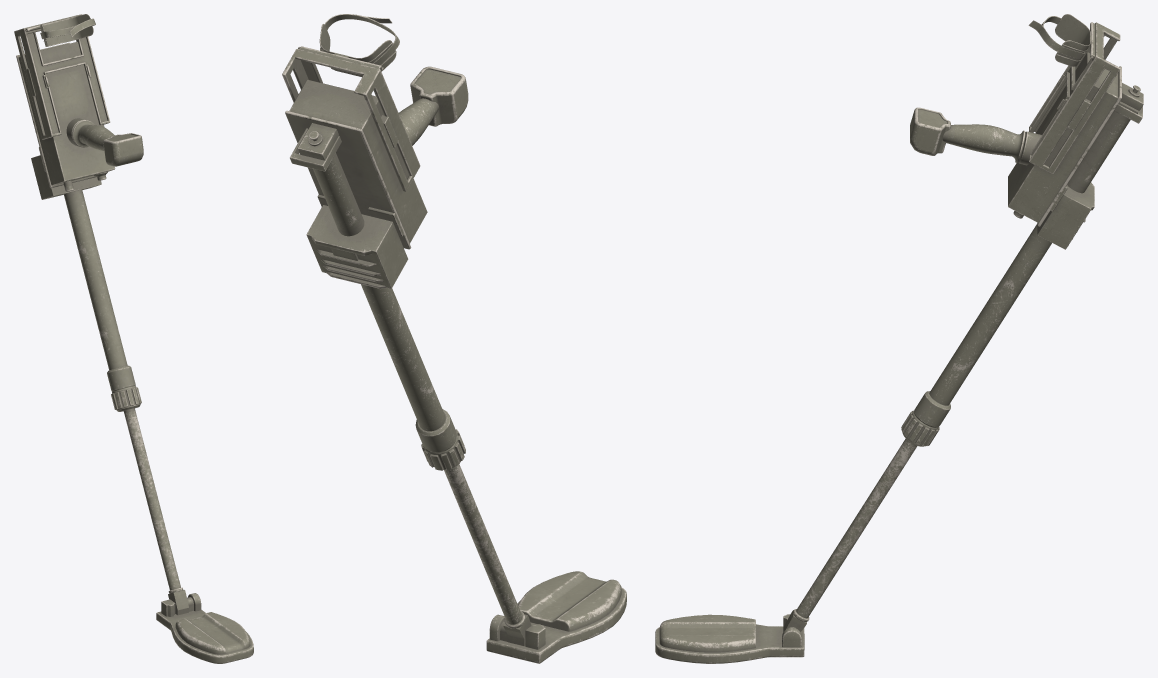
The model's file is ceia-model-bright.glb.
3 views of the same model, side by side, from view 1: azimuth 30°, elevation 25°; view 2: azimuth 150°, elevation 25°; view 3: azimuth 270°, elevation 25° (orthographic). The views are drawn at different scales.
Visible parts, largest first — view 1: Prop_MineHound; view 2: Prop_MineHound; view 3: Prop_MineHound.
Boxes of the visible parts, bbox=[...] form: Prop_MineHound: bbox=[14, 14, 253, 663]; Prop_MineHound: bbox=[282, 14, 626, 663]; Prop_MineHound: bbox=[655, 14, 1143, 663].
Bounding box in the file's own units: 14.98 × 123 × 87.14.
1 material, 1 textured.
